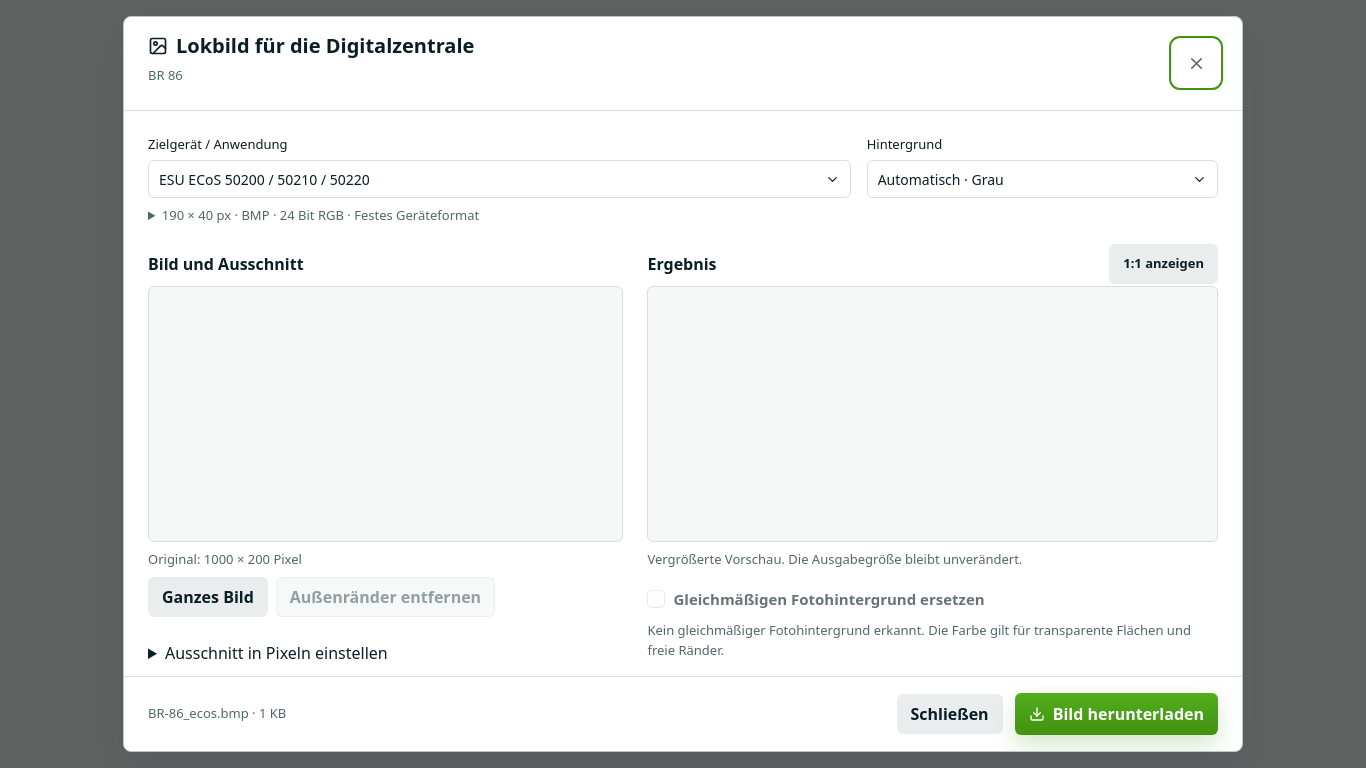
Test case: keeps a manual choice when the configured station arrives late
The width and height of the screenshot is (1366, 768).
Expected: the link "Bild herunterladen" is shown, [1015,693,1218,735]
Step 1. Click the button with aria-label "Hintergrund" → click(941, 179), box [867,160,1218,198]
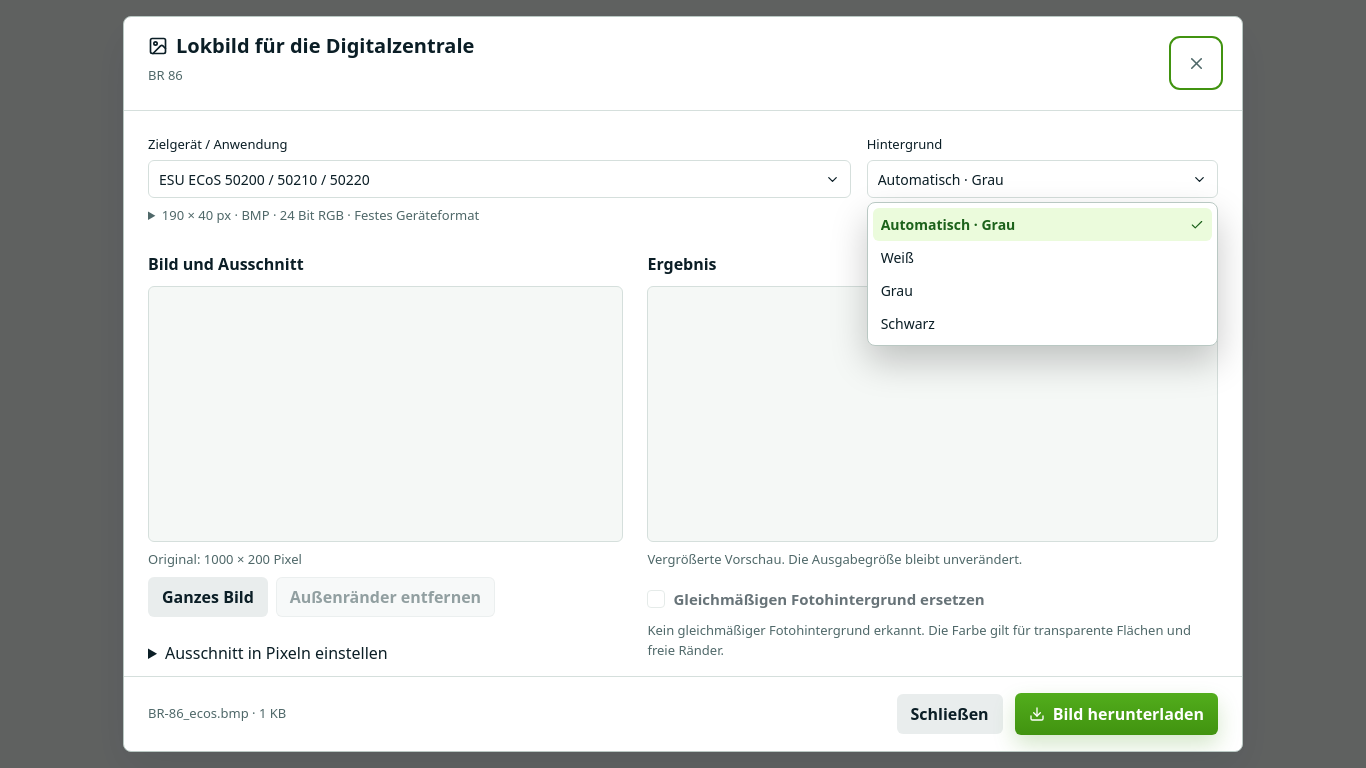
Step 2. Click the option "Schwarz" → click(908, 324), box [873,307,1212,340]
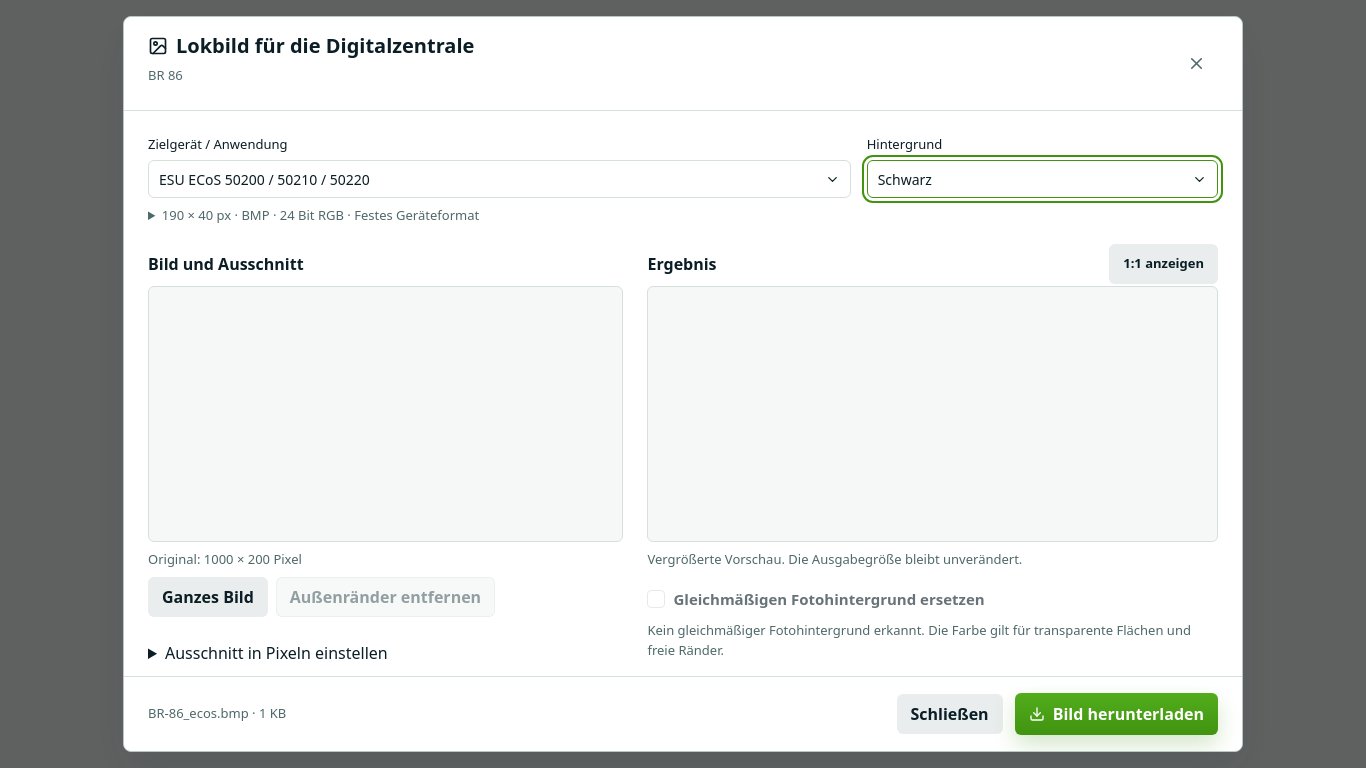
Expected: the button with aria-label "Zielgerät / Anwendung" shows "ESU ECoS", [148,160,851,198]
Expected: the button with aria-label "Hintergrund" reads "Schwarz", [867,160,1218,198]
